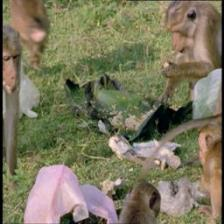monkey: (157, 1, 203, 57), (0, 25, 27, 96), (190, 118, 221, 172)
